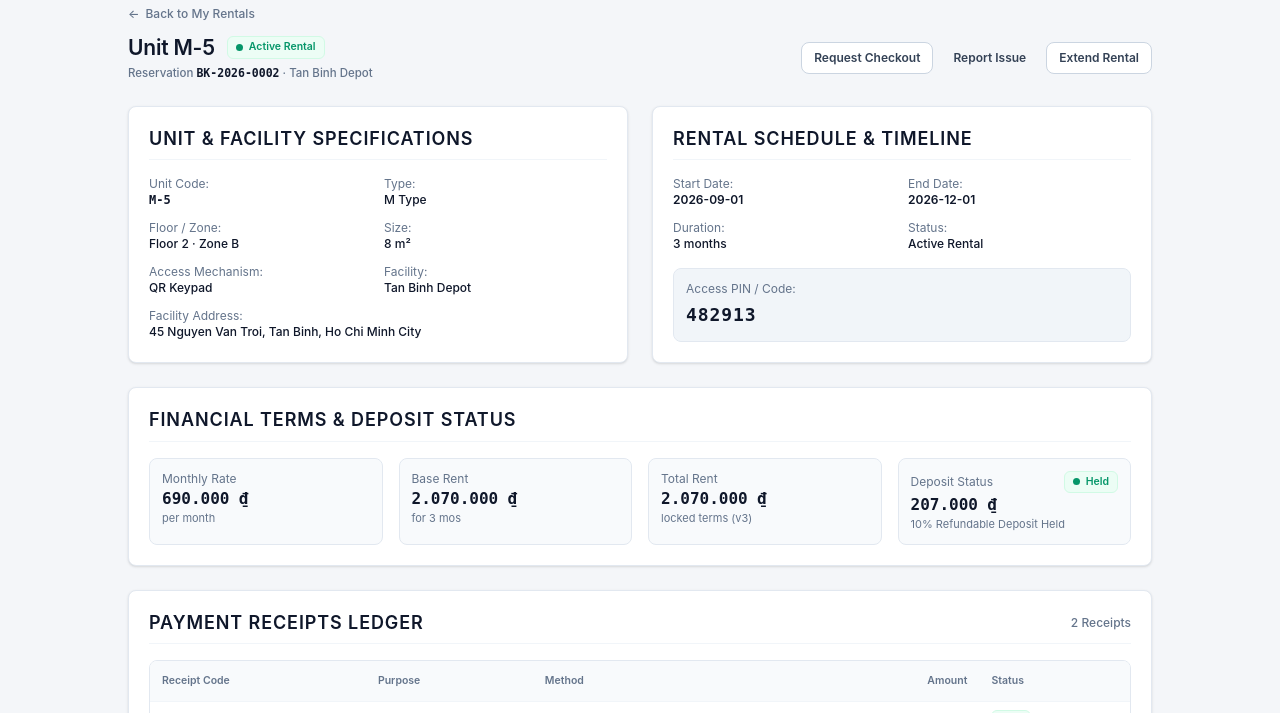
it: Story 5.1: Support Ticket Creation and Routing › opens support ticket modal directly from RentalDetailPage via Report Issue button
Click the button with test id "report-issue-btn".
click(990, 58)  # box [941,42,1038,74]
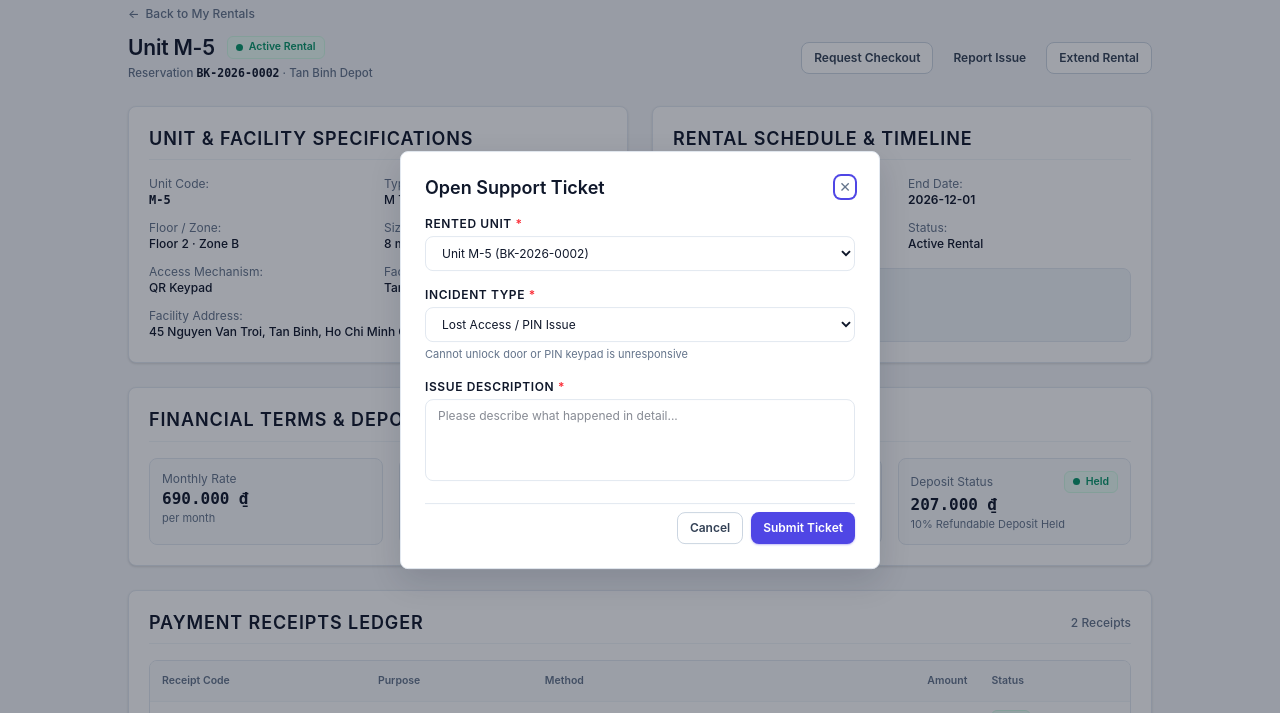
Check: the form with test id "new-support-modal" is shown, box [425,216,855,544]
Type "Cage door hinge is broken" into the text box with test id "support-description-input".
click(640, 440); type("Cage door hinge is broken")  # box [425,399,855,481]
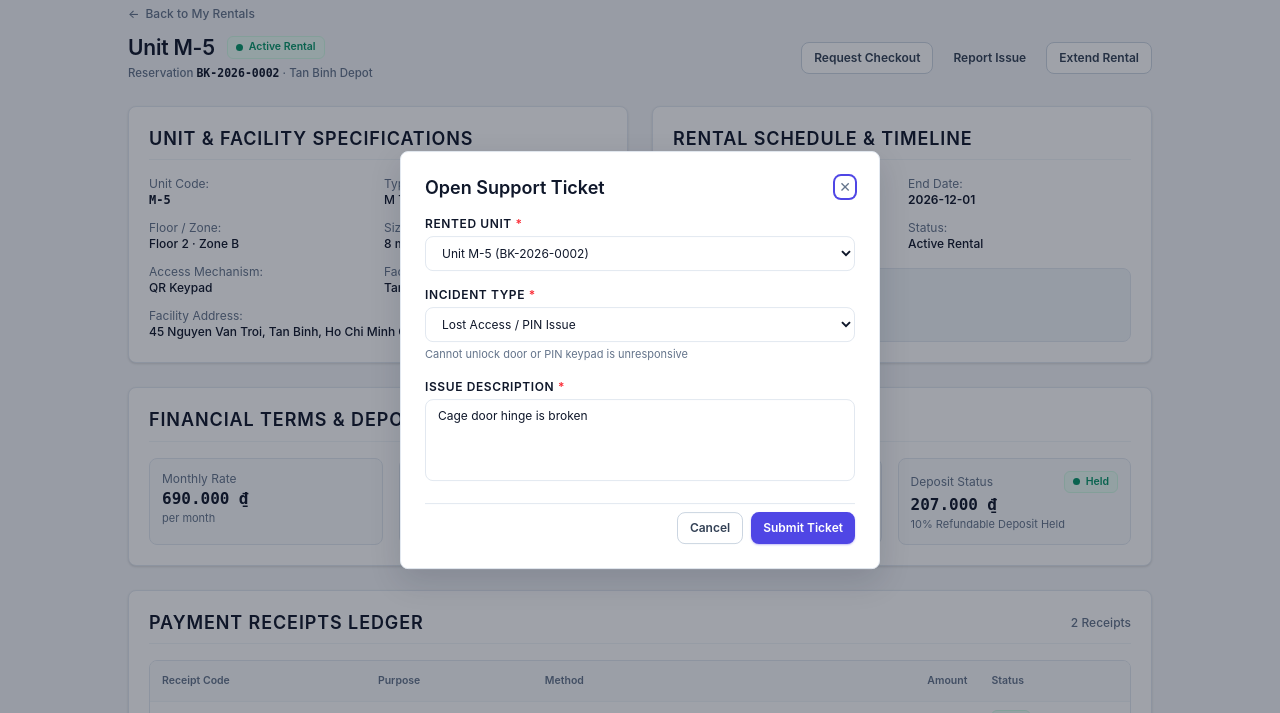
Click the button with test id "submit-support-ticket-btn".
click(803, 528)  # box [751,512,855,544]
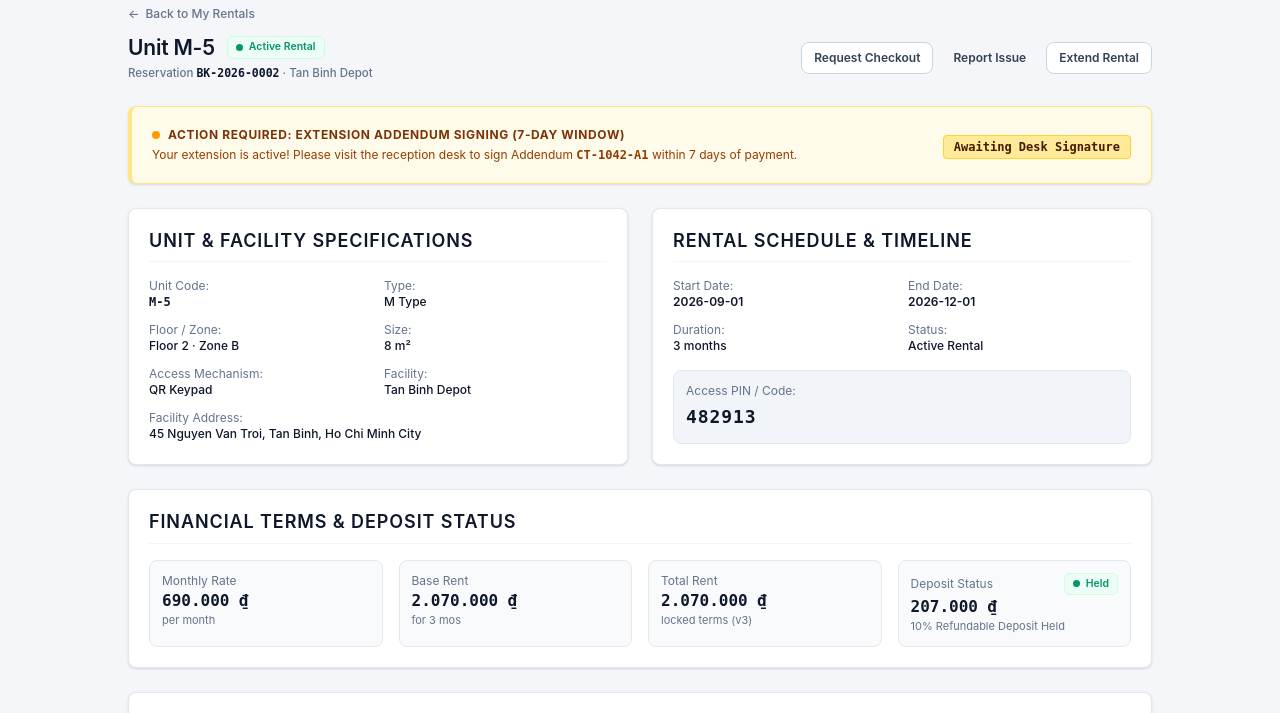
Check: the form with test id "new-support-modal" is gone
